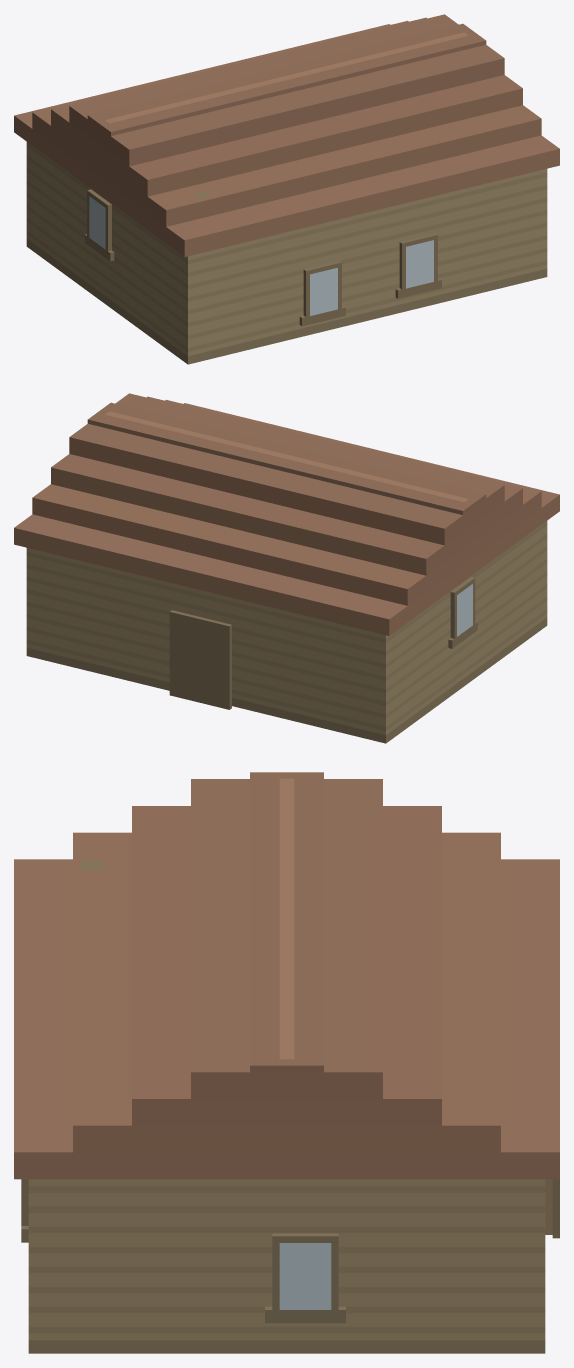
The model's file is carniceria_02.glb.
3 renders of one model, top to bottom at view 1: azimuth 30°, elevation 25°; view 2: azimuth 150°, elevation 25°; view 3: azimuth 270°, elevation 25°, orthographic. The views are drawn at different scales.
Visible parts, largest first — view 1: carniceria_02; view 2: carniceria_02; view 3: carniceria_02.
Part boxes in pixels (x1,y1,x2,y2): carniceria_02: (14, 14, 559, 364); carniceria_02: (14, 393, 559, 743); carniceria_02: (14, 772, 559, 1353).
Bounding box in the file's own units: 9.4 × 4.4 × 7.4.
